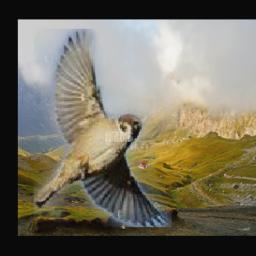Sparrow: (33, 30, 171, 228)
